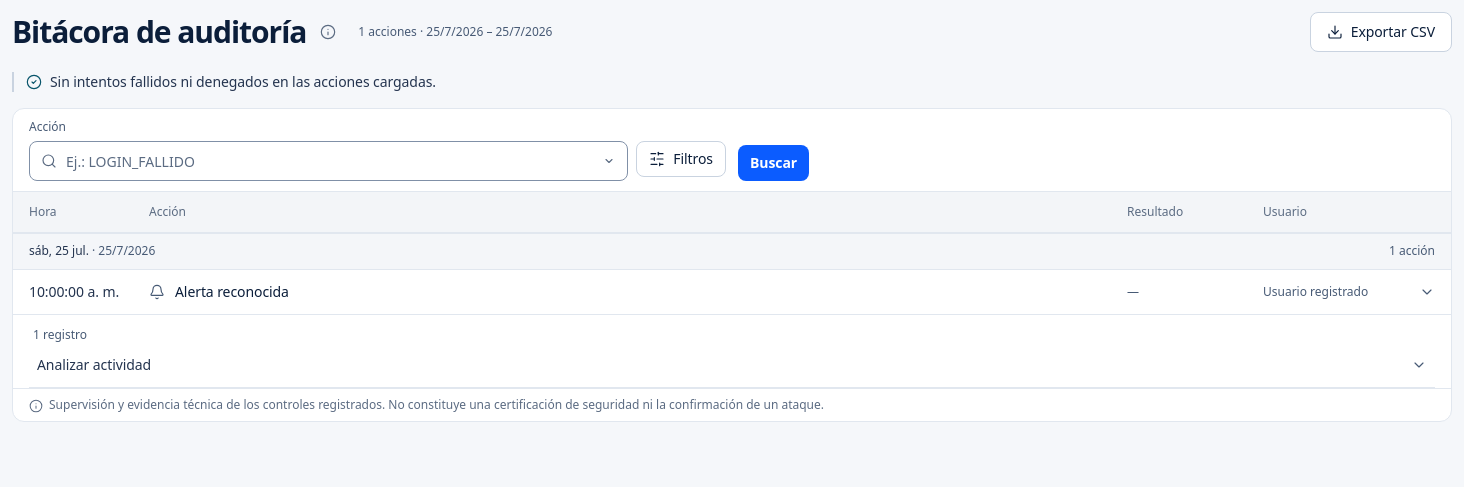
Test case: AuditoriaPage — HU-42/HU-50: resultado real, seguridad y exportación del servidor › avisa del límite de exportaciones por minuto (429)
This screenshot has width=1464, height=487.
Step 1. Click the button "Exportar CSV" → (1381,32), box [1310, 12, 1452, 52]
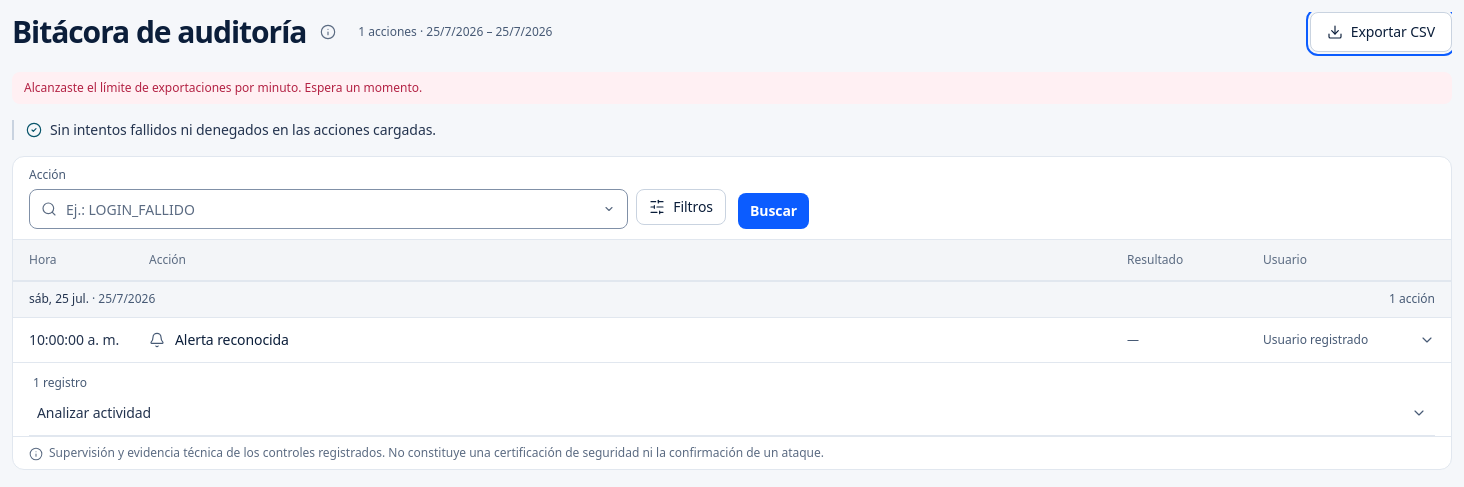
Now the message shows "límite de exportaciones por minuto", box [24, 79, 422, 96]
